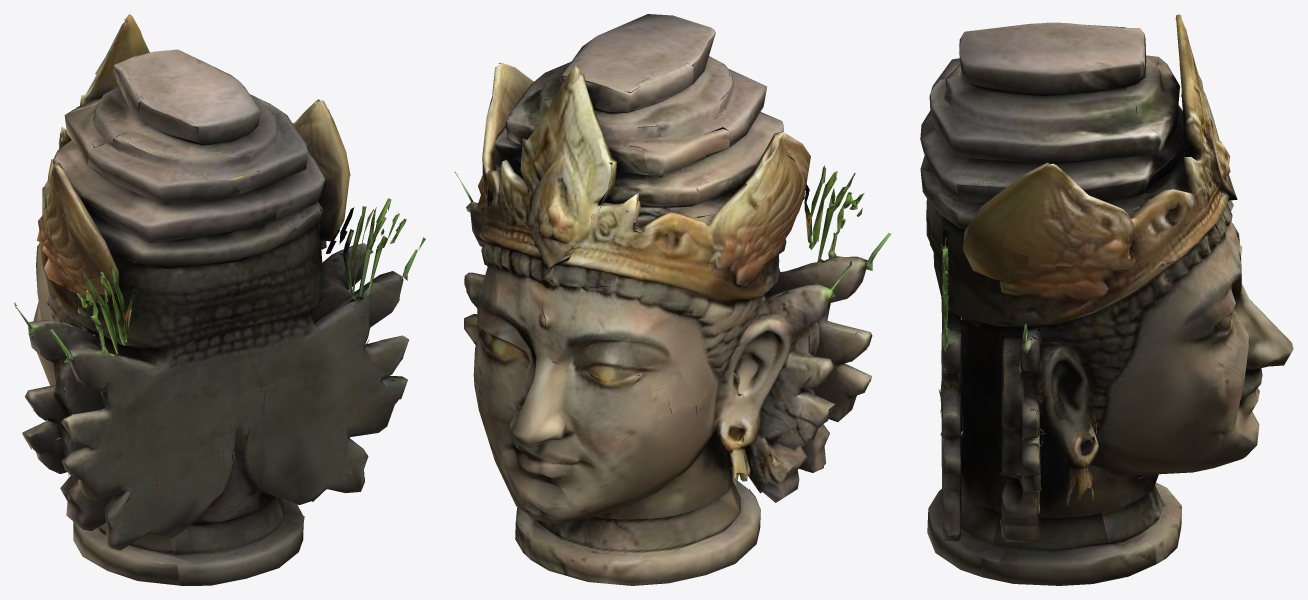
Rendered from dewi-padi.glb.
The picture shows the model from 3 angles, left to right: view 1: azimuth 30°, elevation 25°; view 2: azimuth 150°, elevation 25°; view 3: azimuth 270°, elevation 25°; orthographic projection. The views are drawn at different scales.
Visible parts, largest first — view 1: dewi-padi; view 2: dewi-padi; view 3: dewi-padi.
Boxes of the visible parts, x1,y1,x2,y2 form: dewi-padi: (14,14,425,585); dewi-padi: (454,14,891,585); dewi-padi: (920,14,1293,585).
Bounding box in the file's own units: 0.8187 × 1 × 0.6501.
1 material, 1 textured.
